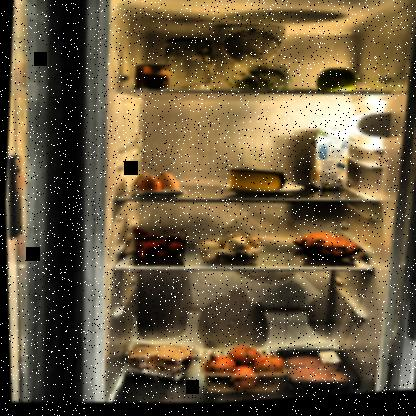apple: (309, 68, 359, 101)
cheese: (227, 169, 286, 199)
chicken: (268, 347, 363, 401)
corn: (133, 64, 172, 95)
eggs: (129, 170, 184, 205)
green_beans: (225, 64, 293, 101)
milk: (307, 127, 353, 197)
mushrooms: (193, 229, 265, 271)
onion: (197, 344, 288, 400)
strawberries: (129, 224, 189, 268)
sweet_potato: (285, 229, 365, 271)
